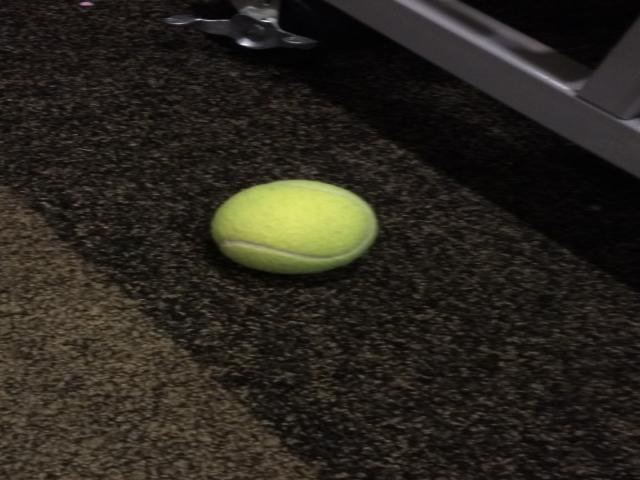tennis-ball: (206, 177, 382, 275)
